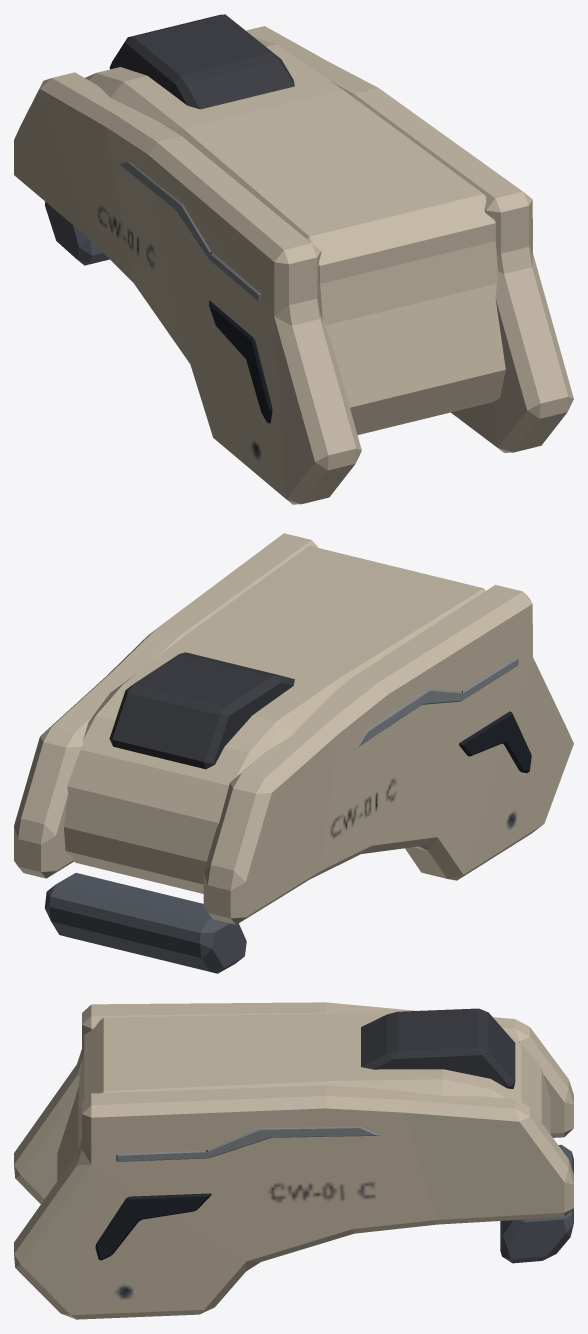
File: rear_armor.obj
3 renders of one model, top to bottom at view 1: azimuth 30°, elevation 25°; view 2: azimuth 150°, elevation 25°; view 3: azimuth 270°, elevation 25°, orthographic. The views are drawn at different scales.
Parts seen in each view (by area): view 1: rear_armor; view 2: rear_armor; view 3: rear_armor.
Boxes of the visible parts, x1=… form: rear_armor: x1=14, y1=14, x2=573, y2=504; rear_armor: x1=14, y1=533, x2=573, y2=973; rear_armor: x1=14, y1=1002, x2=573, y2=1319.
Size of the model in its own units: 0.0588 by 0.0596 by 0.1254.
Materials: 1 (1 with a texture image).
